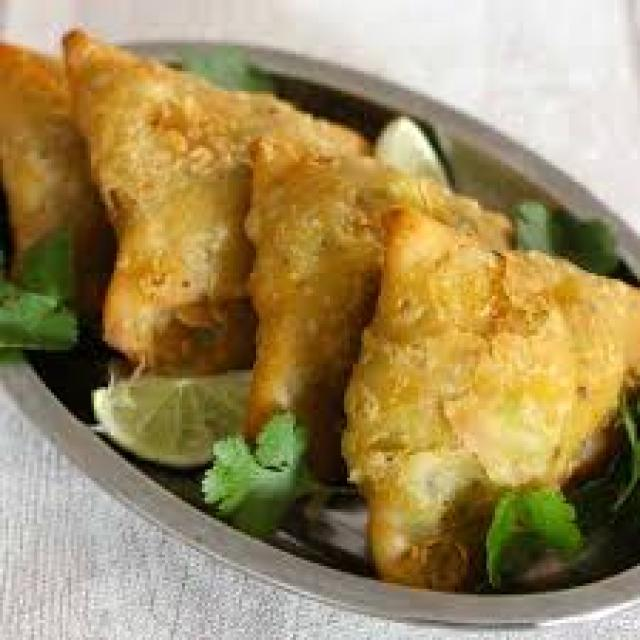SAMOSA: (336, 202, 637, 601), (64, 27, 372, 378), (237, 129, 522, 446)
